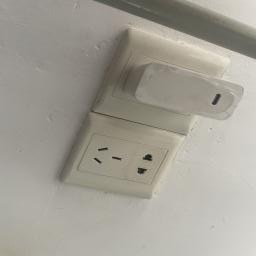outlet: (83, 24, 241, 136), (56, 125, 193, 196)
